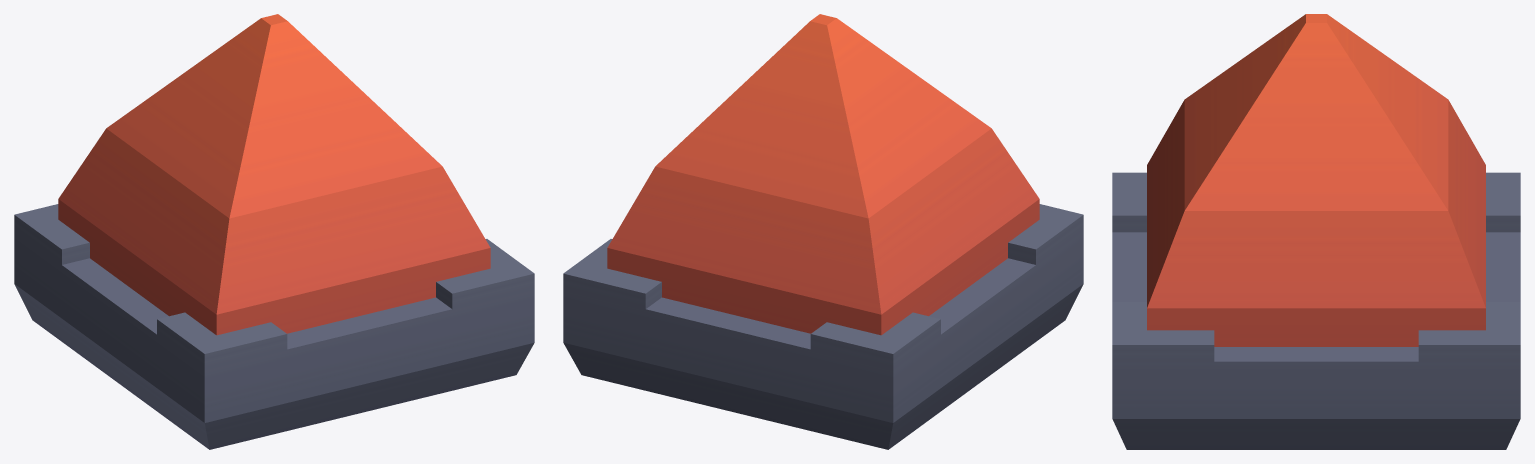
Rendered from tower-square-top-roof-rounded.fbx.
The picture shows the model from 3 angles, left to right: view 1: azimuth 30°, elevation 25°; view 2: azimuth 150°, elevation 25°; view 3: azimuth 270°, elevation 25°; orthographic projection. The views are drawn at different scales.
Parts seen in each view (by area): view 1: tower-square-top-roof-rounded; view 2: tower-square-top-roof-rounded; view 3: tower-square-top-roof-rounded.
Part boxes in pixels (x1,y1,x2,y2): tower-square-top-roof-rounded: (14, 14, 534, 449); tower-square-top-roof-rounded: (563, 14, 1083, 449); tower-square-top-roof-rounded: (1112, 14, 1520, 449).
Size of the model in its own units: 1 by 1 by 0.95.
